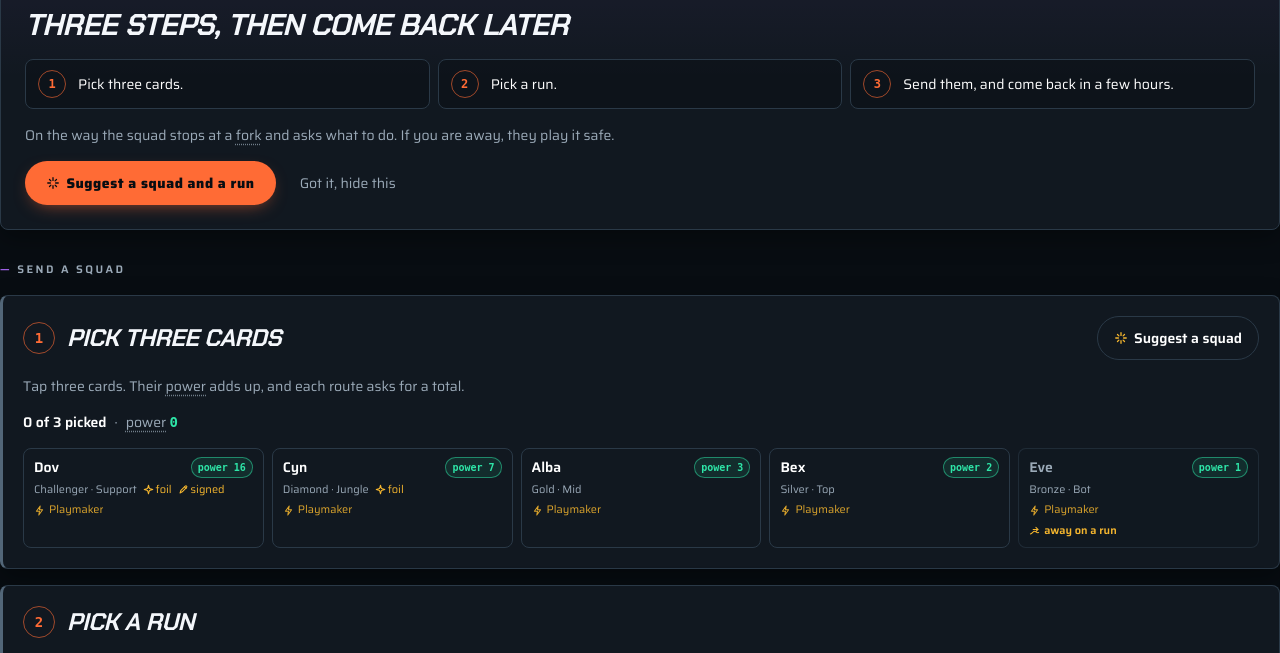
Test: ExpeditionBoard — tier cards › disables a tier the selection can't field, listing every unmet reason
This screenshot has width=1280, height=653.
Click the button "Alba power 3 Gold · Mid Playmaker" at (641, 498), box 521,448 -> 761,548
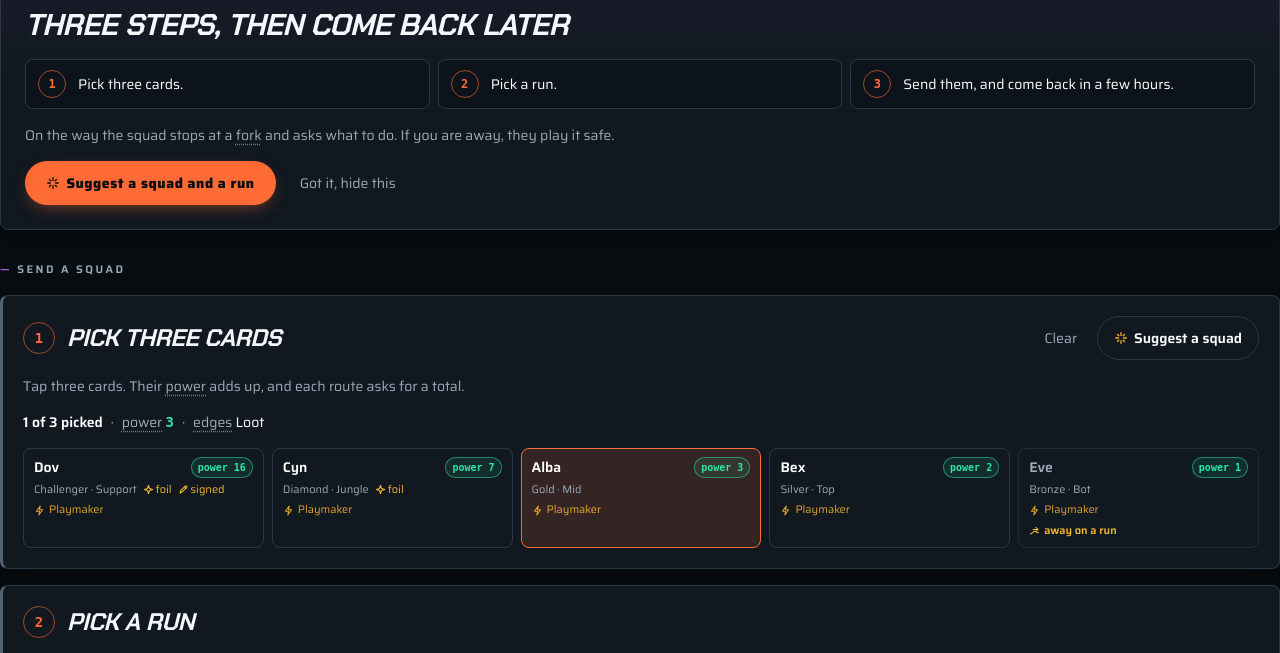
Click the button "Bex power 2 Silver · Top Playmaker" at (890, 498), box 769,448 -> 1010,548
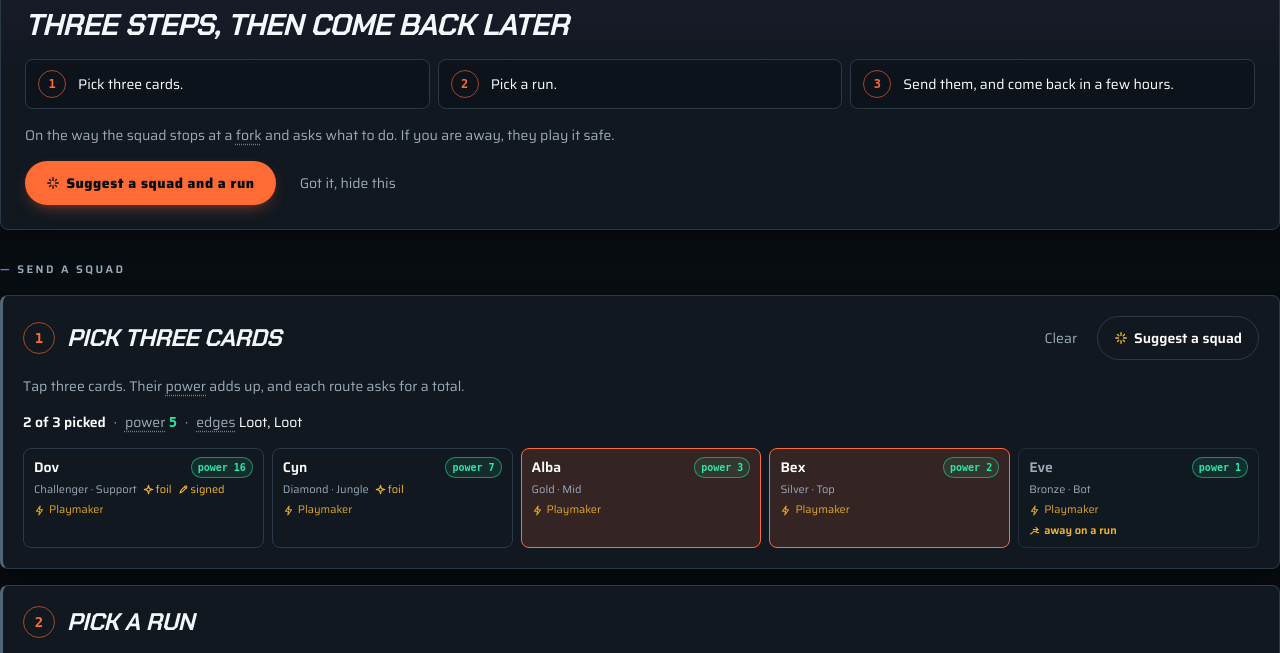
Click the button "Cyn power 7 Diamond · Jungle foil Playmaker" at (392, 498), box 272,448 -> 513,548
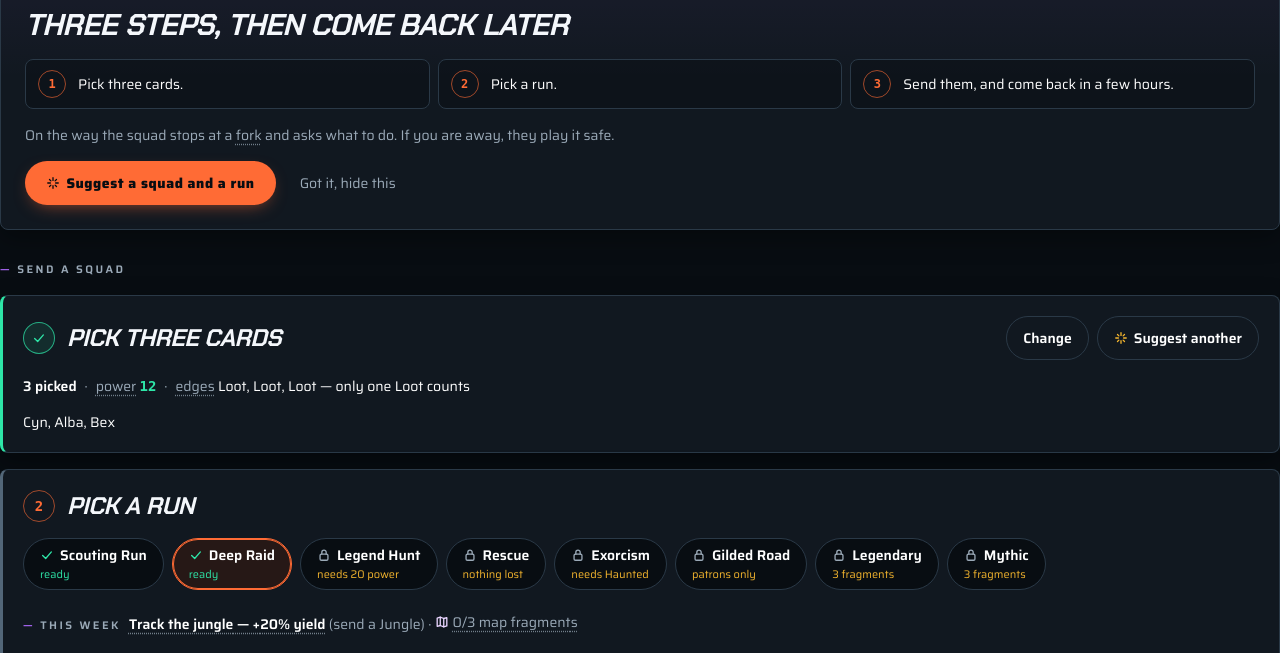
Click the button with test id "route-pill-legend" at (369, 564), box 300,538 -> 438,590
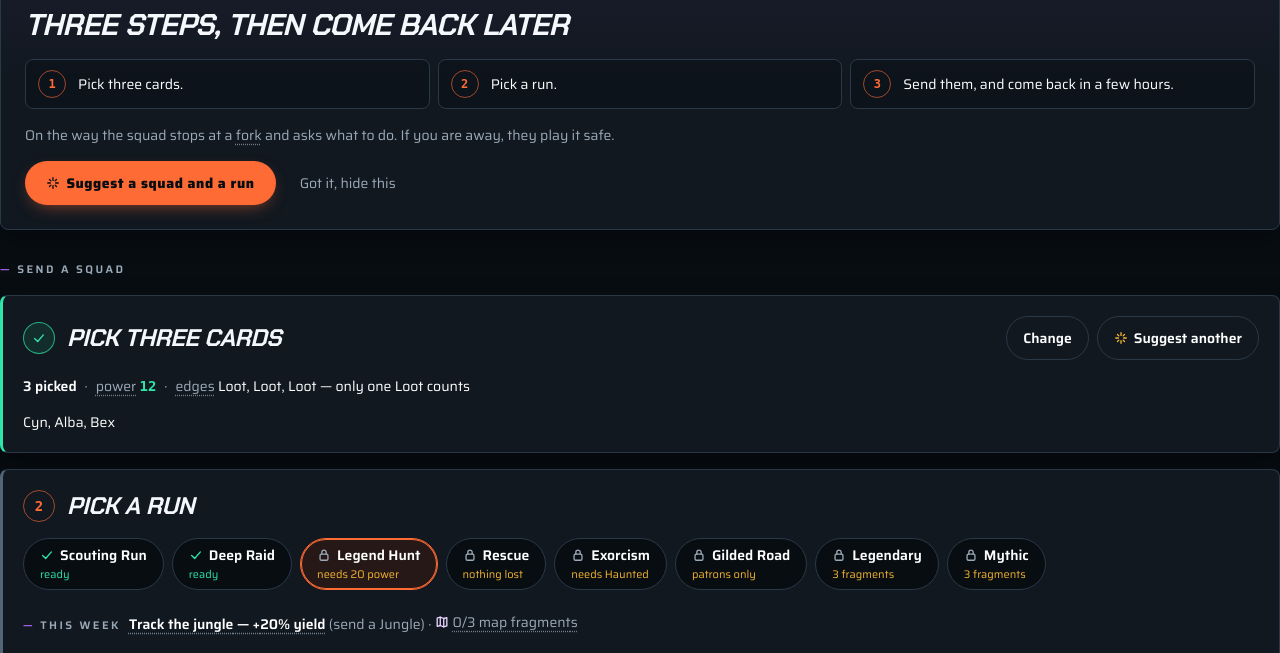
Click the button "Deep Raid ready" at (232, 564), box 172,538 -> 292,590
(page scrolled)
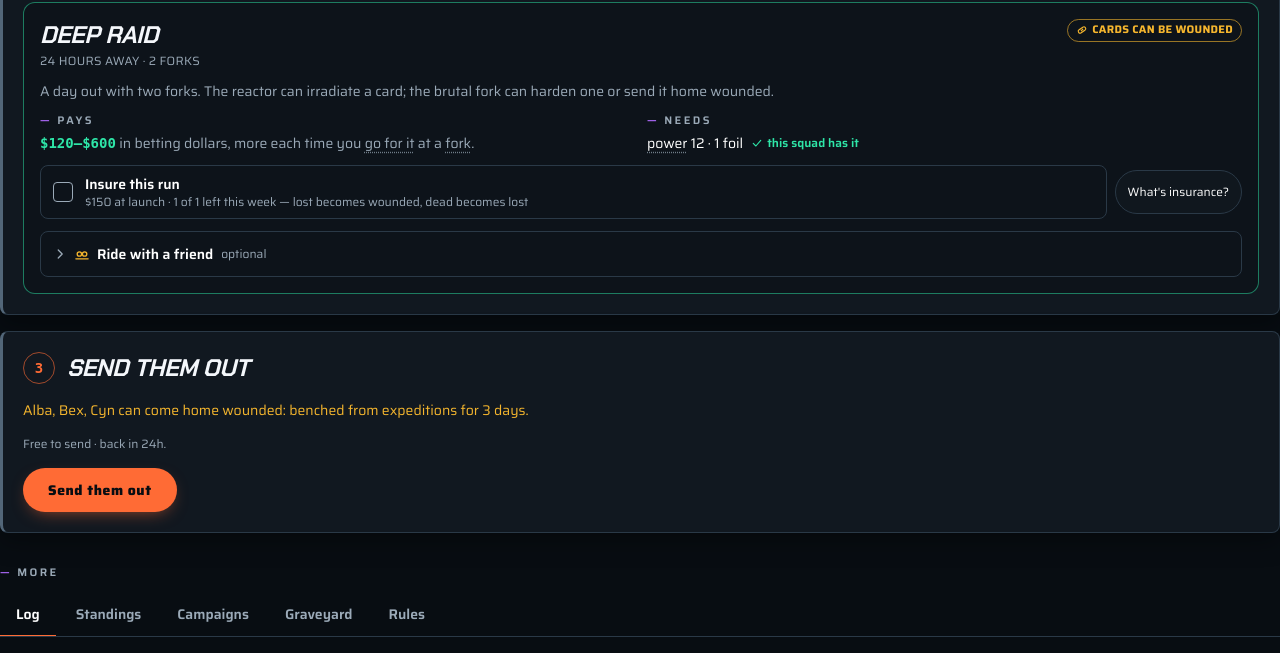
Expected: the list item "Dov power 16 Challenger · Support foil signed Playmaker" is not shown
Expected: the button with aria-label "Launch Deep Raid" is enabled, 23,468 -> 177,512
